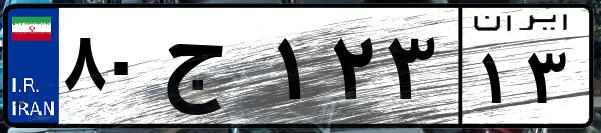0: (110, 28, 158, 98)
1: (270, 28, 330, 110), (475, 38, 525, 113)
2: (330, 28, 385, 110)
3: (385, 28, 445, 110), (525, 38, 570, 115)
8: (57, 26, 110, 100)
ج: (158, 20, 270, 120)
